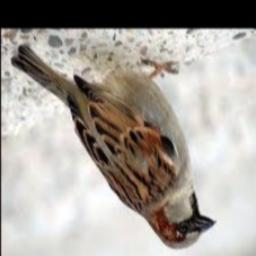Sparrow: (11, 45, 217, 249)
